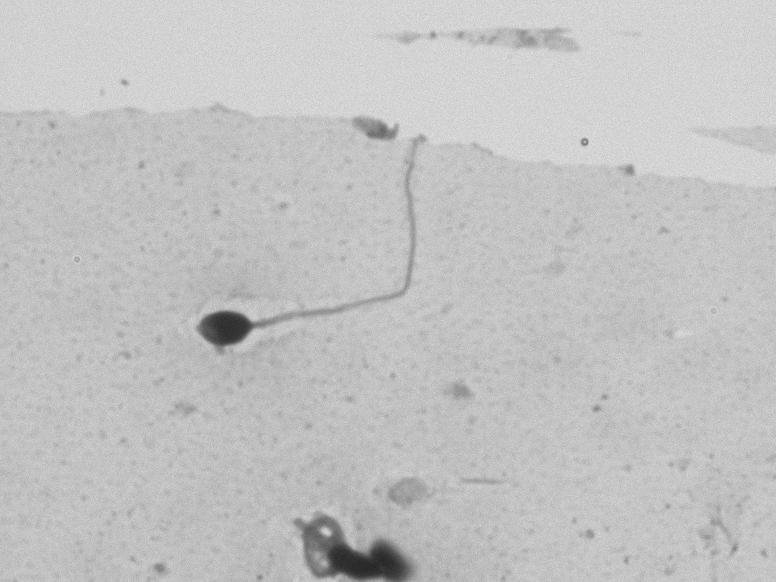Abnormal: (178, 149, 477, 376)
